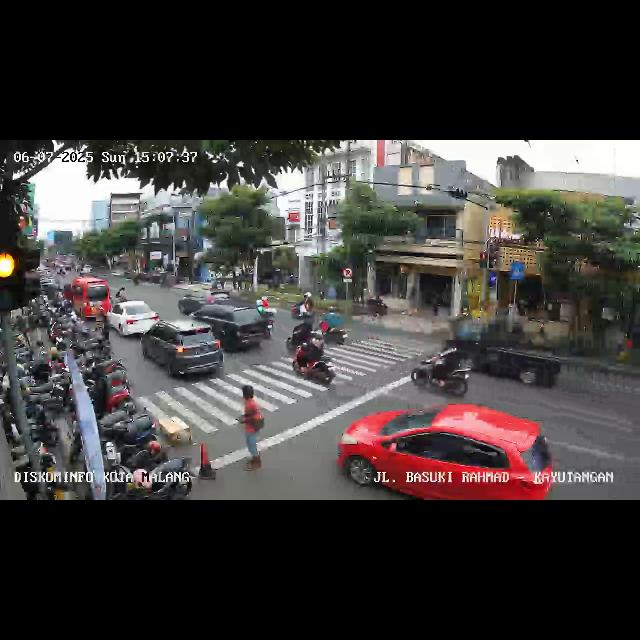car: (338, 402, 556, 500), (468, 321, 566, 391), (142, 320, 226, 382), (187, 305, 263, 353), (106, 300, 160, 340), (68, 276, 110, 320), (176, 284, 222, 316)
motorcycle: (408, 334, 474, 398), (292, 339, 336, 391), (284, 314, 324, 356), (320, 306, 348, 346), (257, 292, 277, 336), (294, 292, 314, 320), (113, 286, 127, 308)
person: (236, 392, 266, 472)
